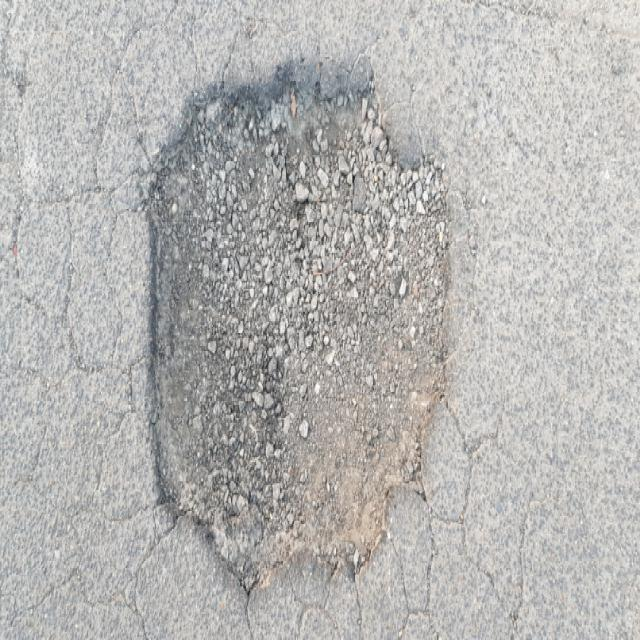pothole: (136, 44, 456, 598)
